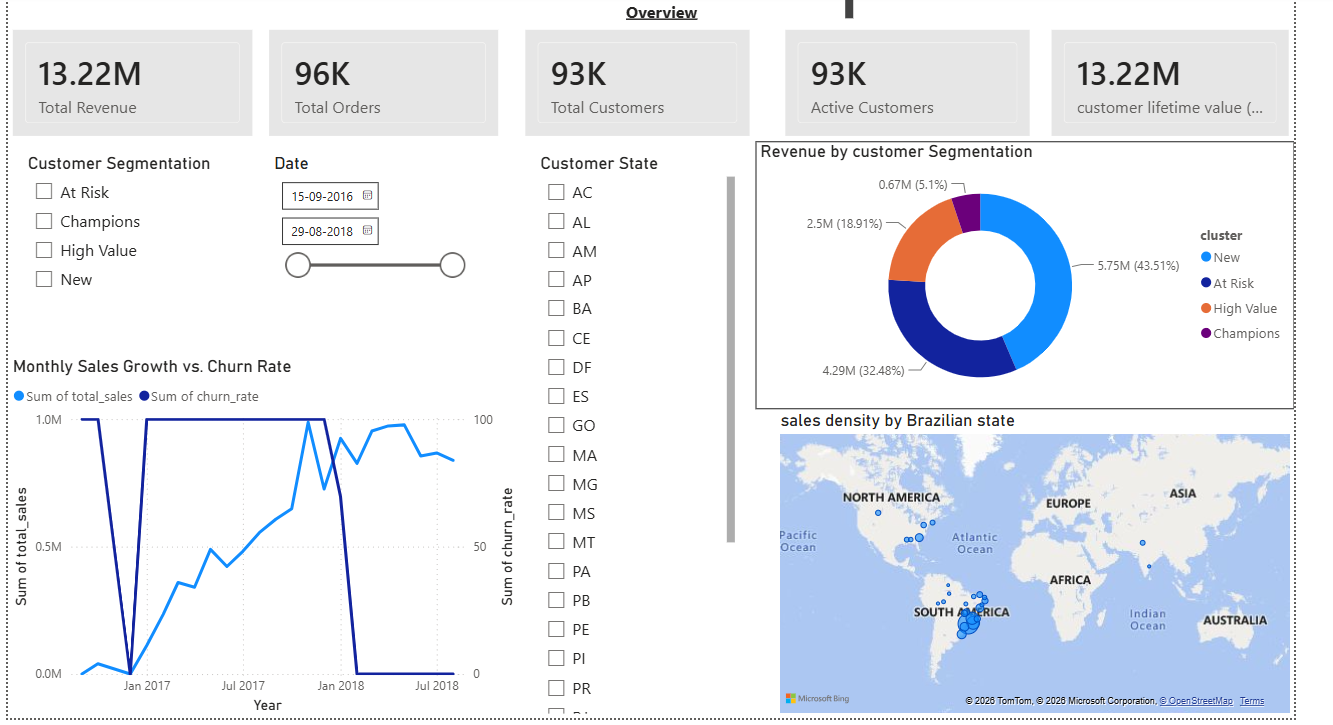

Layout of this report page (visuals, bound fields, positions):
{"tool":"powerbi","page":{"name":"Overview","canvas":[1280,720],"ordinal":0},"visuals":[{"type":"donutChart","title":"Revenue by customer Segmentation","fields":{"Y":["master_analysis_dataset.Total Revenue"],"Category":["rfm_table.cluster"]},"box":[743.3,145,536.7,268.3],"z":0},{"type":"cardVisual","fields":{"Data":["master_analysis_dataset.Total Revenue"]},"box":[0,30,248.3,115],"z":1000},{"type":"cardVisual","fields":{"Data":["master_analysis_dataset.Total Orders"]},"box":[255,30,238.3,115],"z":2000},{"type":"cardVisual","fields":{"Data":["master_analysis_dataset.Total Customers"]},"box":[510,30,233.3,115],"z":3000},{"type":"cardVisual","fields":{"Data":["master_analysis_dataset.Active Customers"]},"box":[768.3,30,253.3,115],"z":4000},{"type":"cardVisual","fields":{"Data":["rfm_table.customer lifetime value (clv)"]},"box":[1033.3,30,246.7,115],"z":5000},{"type":"map","title":"sales density by Brazilian state","fields":{"Category":["master_analysis_dataset.customer_state"],"Size":["Sum(master_analysis_dataset.price)"]},"box":[763.3,413.3,516.7,306.7],"z":6000},{"type":"lineChart","title":"Monthly Sales Growth vs. Churn Rate","fields":{"Y":["Sum(monthly_metrics.total_sales)"],"Y2":["Sum(monthly_metrics.churn_rate)"],"Category":["monthly_metrics.year_month.Variation.Date Hierarchy.Year","monthly_metrics.year_month.Variation.Date Hierarchy.Quarter","monthly_metrics.year_month.Variation.Date Hierarchy.Month","monthly_metrics.year_month.Variation.Date Hierarchy.Day"]},"box":[0,360,510,360],"z":7000},{"type":"slicer","title":"Customer Segmentation","fields":{"Values":["rfm_table.cluster"]},"box":[15,156.7,233.3,153.3],"z":8000},{"type":"slicer","title":"Date","fields":{"Values":["master_analysis_dataset.order_purchase_timestamp"]},"box":[260,156.7,203.3,153.3],"z":9000},{"type":"slicer","title":"Customer State","fields":{"Values":["master_analysis_dataset.customer_state"]},"box":[525,156.7,203.3,563.3],"z":10000},{"type":"textbox","box":[463.3,0,383.3,30],"z":11000}]}

Visuals, with their boxes on the page's 1280x720 design canvas (x1, y1, x2, y2). These are canvas units, not pixel positions in the 1333x725 screenshot, which may show the page scaled, cropped or inside an application window:
"Revenue by customer Segmentation" donutChart: bbox(743, 145, 1280, 413)
cardVisual - master_analysis_dataset.Total Revenue: bbox(0, 30, 248, 145)
cardVisual - master_analysis_dataset.Total Orders: bbox(255, 30, 493, 145)
cardVisual - master_analysis_dataset.Total Customers: bbox(510, 30, 743, 145)
cardVisual - master_analysis_dataset.Active Customers: bbox(768, 30, 1022, 145)
cardVisual - rfm_table.customer lifetime value (clv): bbox(1033, 30, 1280, 145)
"sales density by Brazilian state" map: bbox(763, 413, 1280, 720)
"Monthly Sales Growth vs. Churn Rate" lineChart: bbox(0, 360, 510, 720)
"Customer Segmentation" slicer: bbox(15, 157, 248, 310)
"Date" slicer: bbox(260, 157, 463, 310)
"Customer State" slicer: bbox(525, 157, 728, 720)
textbox: bbox(463, 0, 847, 30)
